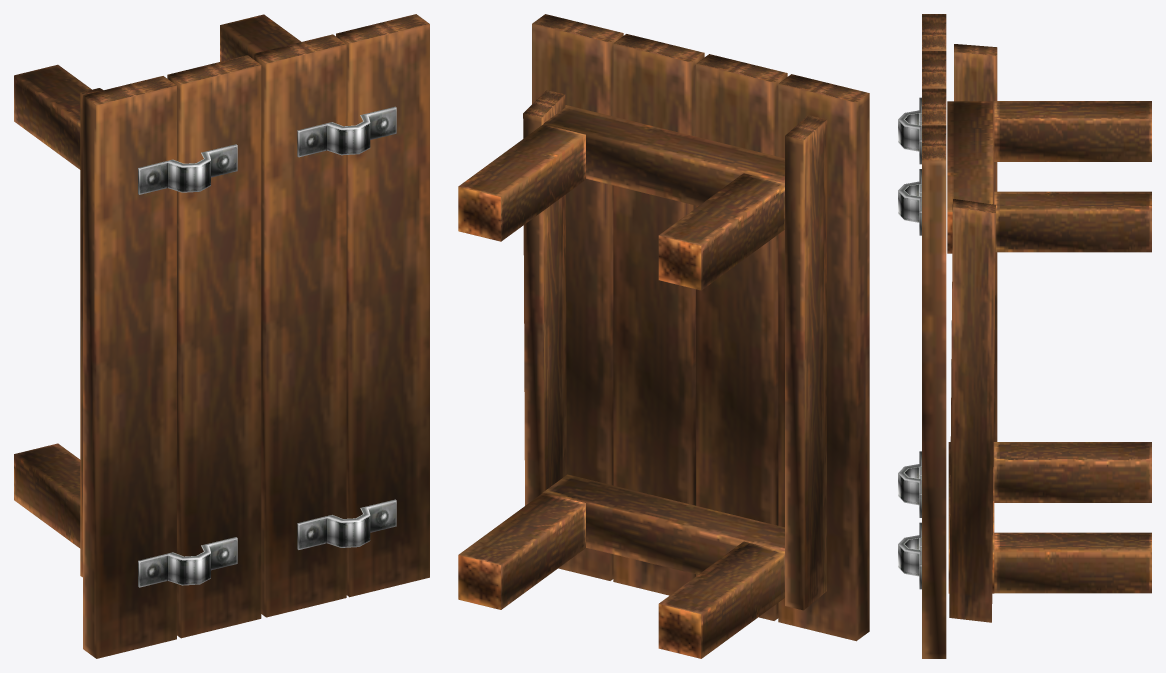
Rendered from INST_SWORDLIGHT_TORTTABLE.fbx.
3 renders of one model, left to right at view 1: azimuth 30°, elevation 25°; view 2: azimuth 150°, elevation 25°; view 3: azimuth 270°, elevation 25°, orthographic. The views are drawn at different scales.
Visible parts, largest first — view 1: INST_SWORDLIGHT_TORTTABLE; view 2: INST_SWORDLIGHT_TORTTABLE; view 3: INST_SWORDLIGHT_TORTTABLE.
Part boxes in pixels (bbox=[...]): INST_SWORDLIGHT_TORTTABLE: bbox=[14, 14, 429, 658]; INST_SWORDLIGHT_TORTTABLE: bbox=[458, 14, 869, 658]; INST_SWORDLIGHT_TORTTABLE: bbox=[898, 14, 1151, 658].
Bounding box in the file's own units: 12222 × 19392 × 8945.
Materials: 3 (3 with a texture image).
